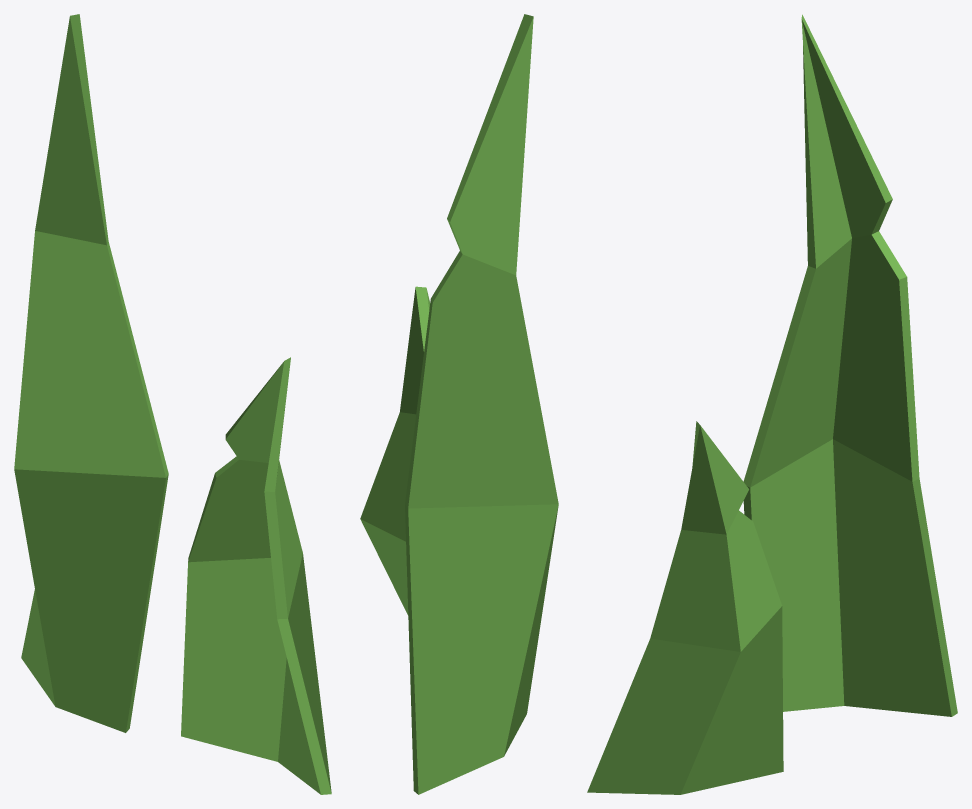
File: Grass buket4.fbx
The picture shows the model from 3 angles, left to right: view 1: azimuth 30°, elevation 25°; view 2: azimuth 150°, elevation 25°; view 3: azimuth 270°, elevation 25°; orthographic projection. The views are drawn at different scales.
Parts seen in each view (by area): view 1: Plane.017, Plane.015; view 2: Plane.017, Plane.015; view 3: Plane.017, Plane.015.
Boxes of the visible parts, bbox=[...] form: Plane.017: bbox=[14, 14, 168, 732]; Plane.015: bbox=[181, 357, 331, 794]; Plane.017: bbox=[405, 14, 558, 794]; Plane.015: bbox=[360, 286, 430, 615]; Plane.017: bbox=[743, 14, 957, 716]; Plane.015: bbox=[587, 421, 783, 794].
Size of the model in its own units: 77.16 by 224 by 106.
